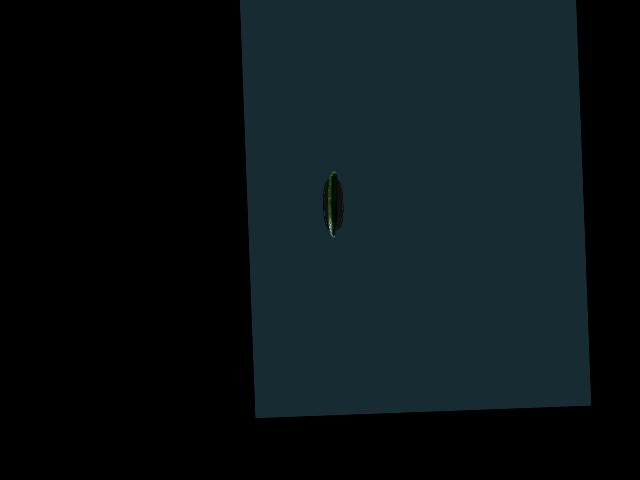cucumber: (326, 171, 340, 238)
